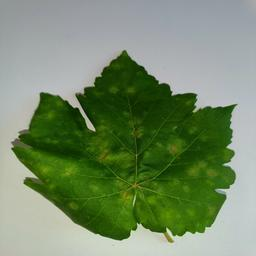Powdery-Mildew: (113, 174, 165, 208), (92, 123, 133, 163), (39, 159, 86, 188), (189, 160, 217, 183), (166, 135, 191, 156), (109, 79, 137, 96), (159, 207, 176, 224)
